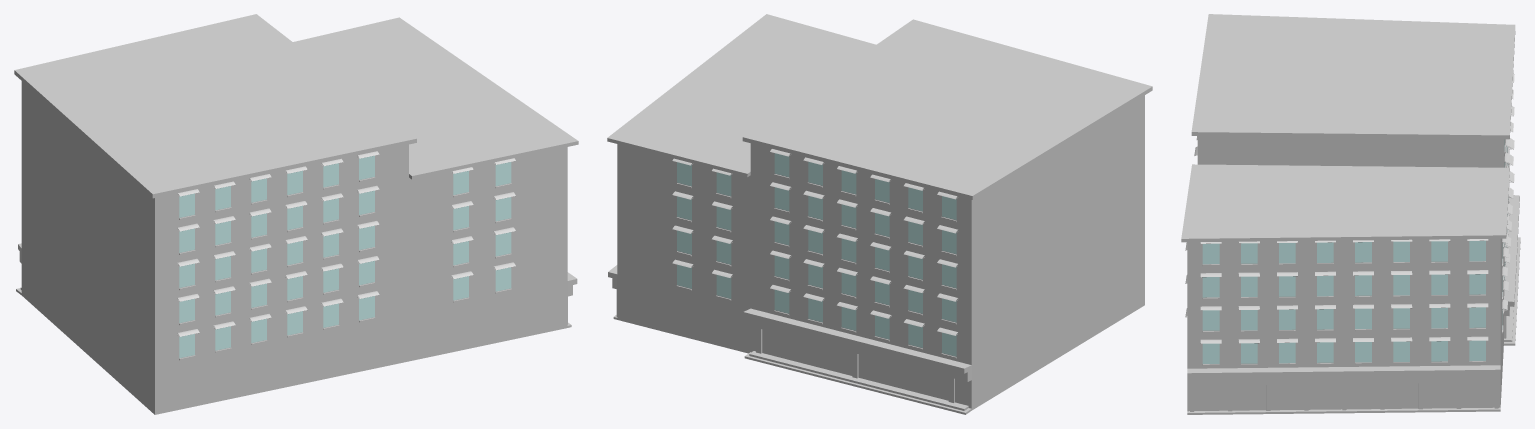
Rendered from 住宅1 英文版.fbx.
3 views of the same model, side by side, from view 1: azimuth 30°, elevation 25°; view 2: azimuth 150°, elevation 25°; view 3: azimuth 270°, elevation 25° (orthographic). The views are drawn at different scales.
Visible parts, largest first — view 1: 物件_4; view 2: 物件_4, 物件_1, 物件_10, 物件_5, 物件_6; view 3: 物件_4, 物件_3, 物件_703, 物件_1, 物件_10, 物件_699, 物件_701, 物件_697, 物件_700, 物件_695, 物件_696, 物件_698 (+33 smaller).
Boxes of the visible parts, x1,y1,x2,y2 form: 物件_4: (14,14,578,414); 物件_4: (607,14,1152,410); 物件_1: (743,308,971,381); 物件_10: (744,351,971,414); 物件_5: (767,330,848,374); 物件_6: (863,355,944,399); 物件_4: (1181,14,1515,411); 物件_3: (1187,365,1500,385); 物件_703: (1187,407,1500,414); 物件_1: (1504,195,1519,316); 物件_10: (1504,237,1520,345); 物件_699: (1353,383,1373,409); 物件_701: (1277,384,1297,410); 物件_697: (1429,383,1449,408); 物件_700: (1315,384,1335,409); 物件_695: (1239,385,1259,410); 物件_696: (1467,382,1487,407); 物件_698: (1391,383,1411,408).
Bounding box in the file's own units: 41.53 × 31.15 × 21.51.
